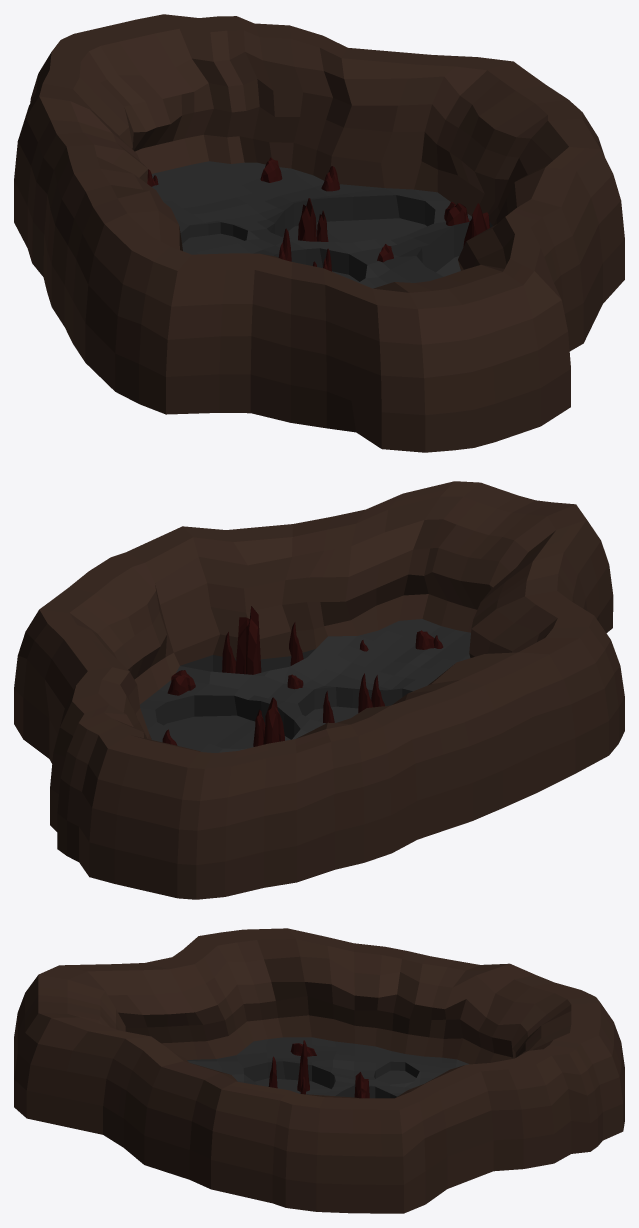
File: lava.fbx
The picture shows the model from 3 angles, top to bottom: view 1: azimuth 30°, elevation 25°; view 2: azimuth 150°, elevation 25°; view 3: azimuth 270°, elevation 25°; orthographic projection. The views are drawn at different scales.
Visible parts, largest first — view 1: polySurface2, polySurface1, pCube9; view 2: polySurface2, polySurface1, pCube22, pCube9; view 3: polySurface2, polySurface1.
Part boxes in pixels (x1=…): polySurface2: x1=14, y1=14, x2=624, y2=452; polySurface1: x1=151, y1=161, x2=492, y2=288; pCube9: x1=298, y1=198, x2=316, y2=241; polySurface2: x1=14, y1=481, x2=624, y2=899; polySurface1: x1=140, y1=619, x2=470, y2=752; pCube22: x1=235, y1=606, x2=261, y2=674; pCube9: x1=263, y1=697, x2=284, y2=744; polySurface2: x1=14, y1=928, x2=624, y2=1213; polySurface1: x1=187, y1=1037, x2=468, y2=1098.
Bounding box in the file's own units: 171 × 46.92 × 232.
